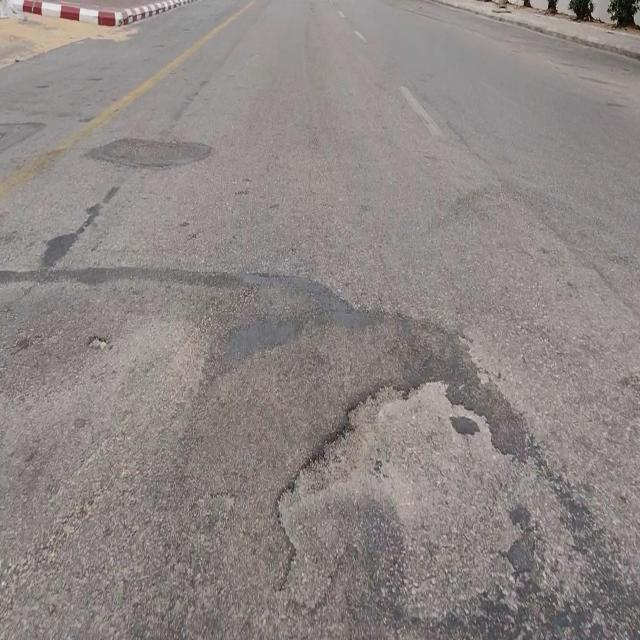Pothole: (277, 379, 533, 623)
